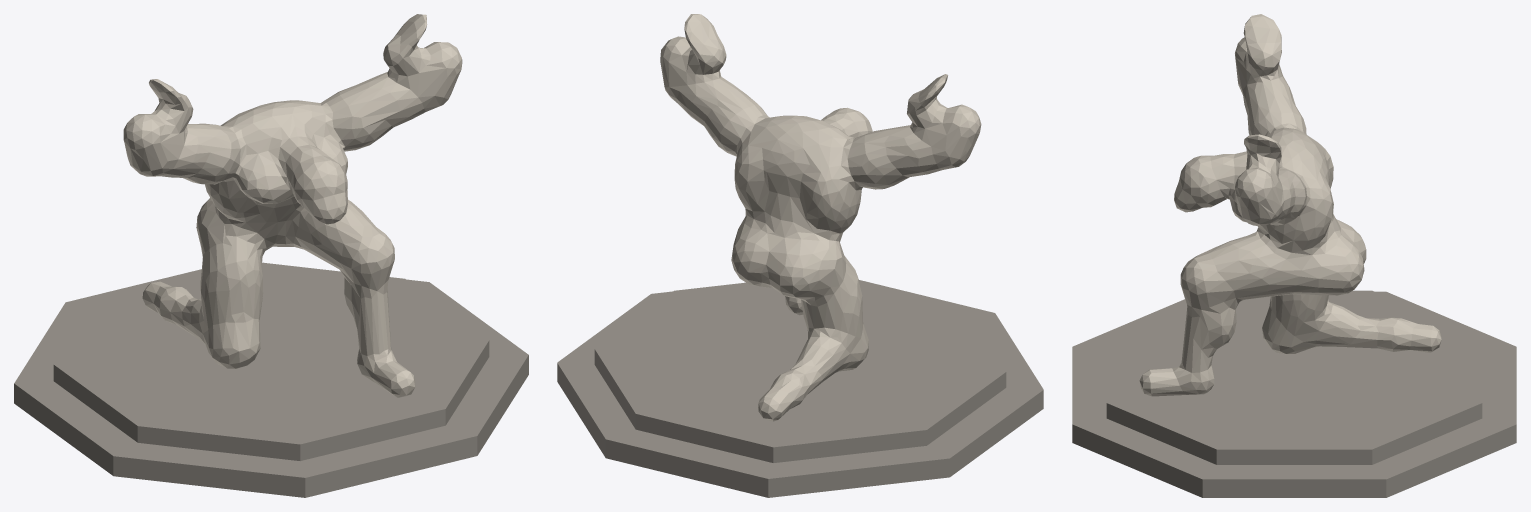
Rendered from atlas-titan.glb.
3 views of the same model, side by side, from view 1: azimuth 30°, elevation 25°; view 2: azimuth 150°, elevation 25°; view 3: azimuth 270°, elevation 25° (orthographic). The views are drawn at different scales.
Visible parts, largest first — view 1: plinth, titan; view 2: plinth, titan; view 3: plinth, titan.
Boxes of the visible parts, x1,y1,x2,y2 form: plinth: (14, 262, 528, 497); titan: (123, 14, 462, 397); plinth: (557, 280, 1043, 497); titan: (660, 14, 981, 421); plinth: (1072, 290, 1516, 497); titan: (1139, 14, 1441, 396).
Bounding box in the file's own units: 2.6 × 2.13 × 2.6.
